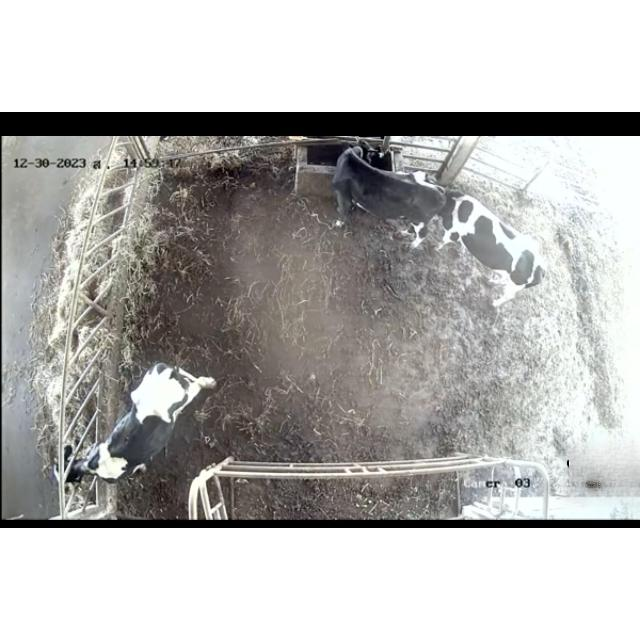drink: (330, 136, 386, 192)
eat: (38, 434, 118, 492)
stand: (437, 190, 548, 306)
